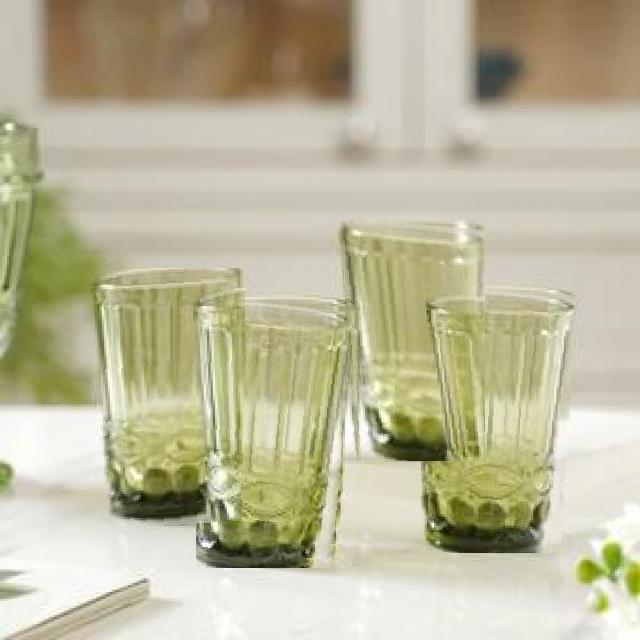Glass: (196, 296, 354, 568), (421, 284, 577, 553), (91, 268, 246, 530), (340, 218, 485, 462)
